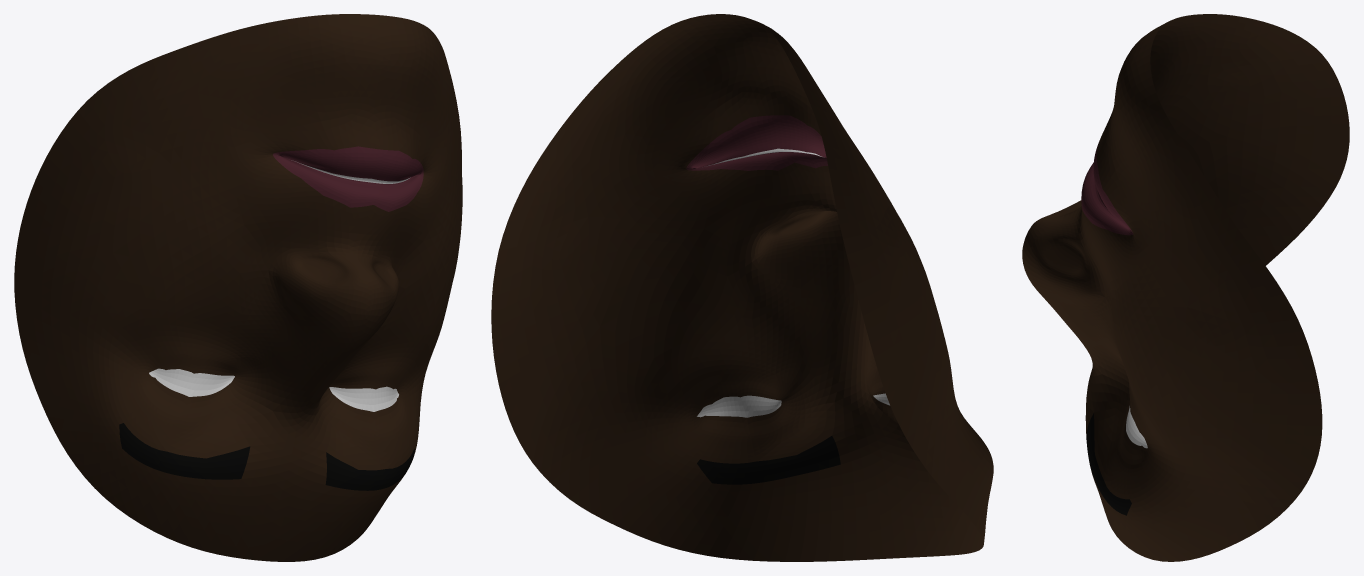
File: sympathetic.obj
3 views of the same model, side by side, from view 1: azimuth 30°, elevation 25°; view 2: azimuth 150°, elevation 25°; view 3: azimuth 270°, elevation 25° (orthographic). The views are drawn at different scales.
Parts seen in each view (by area): view 1: face_mesh_subdivided; view 2: face_mesh_subdivided; view 3: face_mesh_subdivided.
Boxes of the visible parts, x1,y1,x2,y2 form: face_mesh_subdivided: (14,14,462,561); face_mesh_subdivided: (491,14,993,561); face_mesh_subdivided: (1022,14,1349,561).
Size of the model in its own units: 0.6287 by 0.7525 by 0.431.
